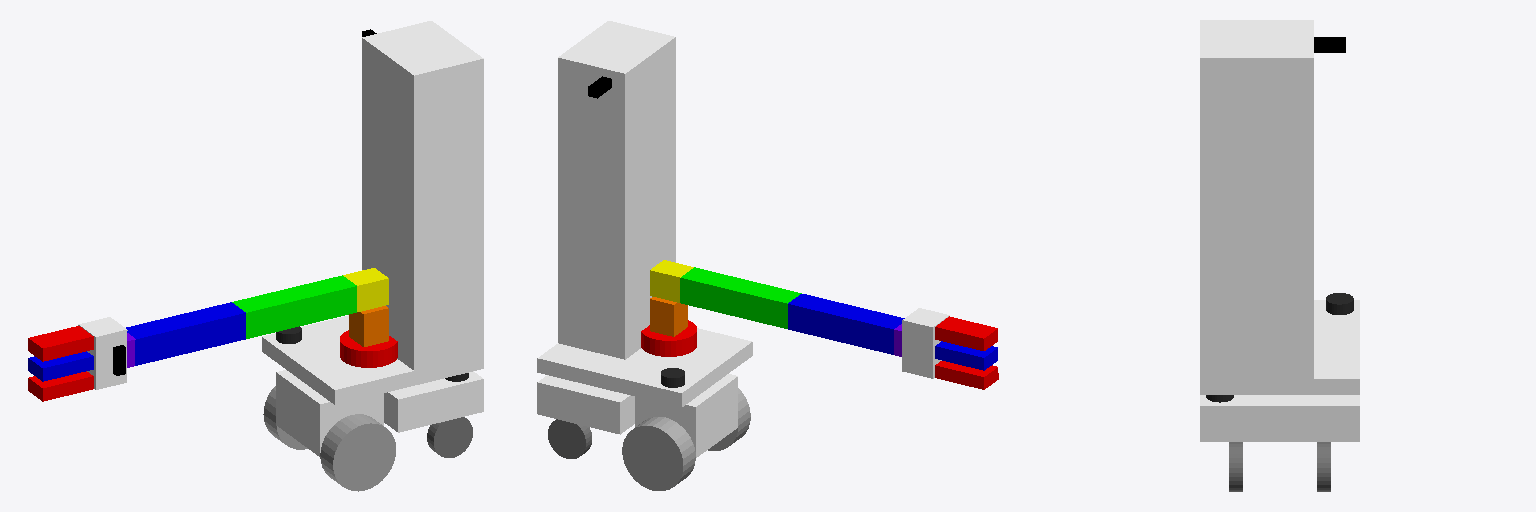
--- Facts derived from the render (not from the file) ---
Views: 3 orthographic renders of the robot side by side, from view 1: azimuth 30°, elevation 25°; view 2: azimuth 150°, elevation 25°; view 3: azimuth 270°, elevation 25°.
Robot: mbse — 25 links, 24 joints (7 revolute, 4 continuous, 3 prismatic, 10 fixed); root link mobilebaseI; default pose: all joints at 0.
Links seen in each view (by area): view 1: Torsol, mobilebaseIV, Revlink3, Revlink4, Wheel_Left, mobilebaseI, mobilebaseII, Hand, FingerLeft, CasterWheel_Left, LinearJoint, Revlink1 (+4 smaller); view 2: Torsol, mobilebaseIV, Revlink3, Revlink4, Wheel_Right, mobilebaseII, mobilebaseI, Hand, FingerLeft, CasterWheel_Right, LinearJoint, Revlink1 (+4 smaller); view 3: Torsol, mobilebaseII, mobilebaseIV, CasterWheel_Left, CasterWheel_Right, Lidar_Front.
Boxes of the visible links, x1,y1,x2,y2 form: Torsol: (362, 21, 483, 370); mobilebaseIV: (262, 315, 483, 404); Revlink3: (232, 275, 356, 338); Revlink4: (126, 302, 245, 365); Wheel_Left: (320, 414, 395, 491); mobilebaseI: (276, 370, 383, 456); mobilebaseII: (384, 371, 483, 432); Hand: (78, 317, 127, 389); FingerLeft: (28, 326, 93, 361); CasterWheel_Left: (427, 417, 472, 457); LinearJoint: (340, 330, 397, 367); Revlink1: (349, 306, 388, 346); Torsol: (558, 21, 675, 359); mobilebaseIV: (537, 328, 752, 407); Revlink3: (680, 267, 801, 328); Revlink4: (788, 294, 904, 354); Wheel_Right: (622, 417, 695, 490); mobilebaseII: (537, 375, 634, 434); mobilebaseI: (635, 374, 737, 457); Hand: (902, 308, 949, 378); FingerLeft: (935, 316, 997, 350); CasterWheel_Right: (548, 419, 591, 458); LinearJoint: (641, 320, 696, 356); Revlink1: (650, 297, 687, 336); Torsol: (1200, 20, 1313, 378); mobilebaseII: (1200, 395, 1359, 441); mobilebaseIV: (1200, 300, 1359, 394); CasterWheel_Left: (1229, 442, 1242, 491); CasterWheel_Right: (1317, 442, 1330, 491); Lidar_Front: (1326, 293, 1353, 314).
Size in the robot's own frame: 1.34 by 0.4 by 1.22 metres.
Geometry: primitives only (box / cylinder / sphere), no mesh files.

The robot description file, URDF, robot "mbse":
<?xml version="1.0" encoding="UTF-8"?>
<!-- <?xml version="1.0"?> -->
<robot name="mbse">
    <link name="mobilebaseI">
        <visual name="mobilebaseI">
            <origin xyz="0.0 0.0 0.080" rpy="0.0 0.0 0.0" />
            <geometry name="mobilebaseI">
                <box size="0.200 0.240 0.160" />
            </geometry>
            <material name="white">
                <color rgba="1.0 1.0 1.0 1.0" />
            </material>
        </visual>
        <inertial>
            <mass value="2.0" />
            <inertia ixx="5.0" ixy="0.0" ixz="0.0" iyy="7.0" iyz="0.0" izz="6.0" />
        </inertial>
        <collision>
            <origin xyz="0.0 0.0 0.080" rpy="0.0 0.0 0.0" />
            <geometry name="mobilebaseI">
                <box size="0.200 0.240 0.160" />
            </geometry>
        </collision>
    </link>
    <link name="mobilebaseII">
        <visual name="mobilebaseII">
            <origin xyz="0.0 0.0 0.00" rpy="0.0 0.0 0.0" />
            <geometry name="mobilebaseII">
                <box size="0.270 0.400 0.100" />
            </geometry>
            <material name="white" />
        </visual>
        <inertial>
            <mass value="18.0" />
            <inertia ixx="8.0" ixy="0.0" ixz="0.0" iyy="2.0" iyz="0.0" izz="1.0" />
        </inertial>
        <collision>
            <origin xyz="0.0 0.0 0.00" rpy="0.0 0.0 0.0" />
            <geometry name="mobilebaseII">
                <box size="0.270 0.400 0.100" />
            </geometry>
        </collision>
    </link>
    <joint name="MobileBaseWheel" type="fixed">
        <origin xyz="0.235 0.0 0.110" rpy="0.0 0.0 0.0" />
        <parent link="mobilebaseI" />
        <child link="mobilebaseII" />
    </joint>
    <link name="Wheel_Right">
        <inertial>
            <mass value="1.5" />
            <inertia ixx="8.0" ixy="0.0" ixz="0.0" iyy="4.0" iyz="0.0" izz="4.0" />
        </inertial>
        <visual name="Wheel">
            <origin xyz="0.0 0.0 0.0" rpy="0.0 0.0 0.0" />
            <geometry name="wheel">
                <cylinder radius="0.100" length="0.070" />
            </geometry>
            <material name="Gray1">
                <color rgba="0.7 0.7 0.7 1.0" />
            </material>
        </visual>
        <collision>
            <origin xyz="0.0 0.0 0.0" rpy="0.0 0.0 0.0" />
            <geometry name="wheel">
                <cylinder radius="0.100" length="0.070" />
            </geometry>
        </collision>
    </link>
    <joint name="WheelR" type="continuous">
        <origin xyz="0.0 0.155 0.005" rpy="1.57 0.0 0.0" />
        <parent link="mobilebaseI" />
        <child link="Wheel_Right" />
        <axis xyz="0.0 0.0 1.0" />
        <limit effort="1000.0" velocity="10.0" />
    </joint>
    <link name="Wheel_Left">
        <inertial>
            <mass value="1.5" />
            <inertia ixx="8.0" ixy="0.0" ixz="0.0" iyy="4.0" iyz="0.0" izz="4.0" />
        </inertial>
        <visual name="Wheel">
            <origin xyz="0.0 0.0 0.0" rpy="0.0 0.0 0.0" />
            <geometry name="wheel">
                <cylinder radius="0.100" length="0.070" />
            </geometry>
            <material name="Gray1">
                <color rgba="0.7 0.7 0.7 1.0" />
            </material>
        </visual>
        <collision>
            <origin xyz="0.0 0.0 0.0" rpy="0.0 0.0 0.0" />
            <geometry name="wheel">
                <cylinder radius="0.100" length="0.070" />
            </geometry>
        </collision>
    </link>
    <joint name="WheelL" type="continuous">
        <origin xyz="0.0 -0.155 0.005" rpy="1.57 0.0 0.0" />
        <parent link="mobilebaseI" />
        <child link="Wheel_Left" />
        <axis xyz="0.0 0.0 1.0" />
        <limit effort="1000.0" velocity="10.0" />
    </joint>
    <link name="CasterCase_Left">
        <inertial>
            <mass value="0.06" />
            <inertia ixx="0.2" ixy="0.0" ixz="0.0" iyy="0.6" iyz="-0.7" izz="0.2" />
        </inertial>
        <visual name="CasterCase">
            <origin xyz="0.0 0.0 -0.005" rpy="0.0 0.0 0.0" />
            <geometry name="CasterC">
                <cylinder radius="0.025" length="0.010" />
            </geometry>
            <material name="Gray1">
                <color rgba="0.7 0.7 0.7 1.0" />
            </material>
        </visual>
        <collision>
            <origin xyz="0.0 0.0 -0.005" rpy="0.0 0.0 0.0" />
            <geometry name="CasterC">
                <cylinder radius="0.025" length="0.010" />
            </geometry>
        </collision>
    </link>
    <joint name="CasterCL" type="fixed">
        <origin xyz="0.040 -0.110 -0.05" rpy="0.0 0.0 0.0" />
        <parent link="mobilebaseII" />
        <child link="CasterCase_Left" />
        <axis xyz="0.0 0.0 1.0" />
    </joint>
    <link name="CasterWheel_Left">
        <inertial>
            <mass value="0.3" />
            <inertia ixx="0.6" ixy="0.0" ixz="0.0" iyy="0.3" iyz="0.0" izz="0.3" />
        </inertial>
        <visual name="CasterWheel">
            <origin xyz="0.0 0.0 0.0" rpy="0.0 0.0 0.0" />
            <geometry name="Casterwheel">
                <cylinder radius="0.0625" length="0.036" />
            </geometry>
            <material name="Gray2">
                <color rgba="0.5 0.5 0.5 1.0" />
            </material>
        </visual>
        <collision>
            <origin xyz="0.0 0.0 0.0" rpy="0.0 0.0 0.0" />
            <geometry name="Casterwheel">
                <cylinder radius="0.0625" length="0.036" />
            </geometry>
        </collision>
    </link>
    <joint name="CasterWheelL" type="continuous">
        <origin xyz="0.0405 0.0 -0.0925" rpy="1.57 0.0 0.0" />
        <parent link="CasterCase_Left" />
        <child link="CasterWheel_Left" />
        <axis xyz="0.0 0.0 1.0" />
    </joint>
    <link name="CasterCase_Right">
        <inertial>
            <mass value="0.06" />
            <inertia ixx="0.2" ixy="0.0" ixz="0.0" iyy="0.6" iyz="-0.7" izz="0.2" />
        </inertial>
        <visual name="CasterCase">
            <origin xyz="0.0 0.0 -0.005" rpy="0.0 0.0 0.0" />
            <geometry name="CasterC">
                <cylinder radius="0.025" length="0.010" />
            </geometry>
            <material name="Gray1">
                <color rgba="0.7 0.7 0.7 1.0" />
            </material>
        </visual>
        <collision>
            <origin xyz="0.0 0.0 -0.005" rpy="0.0 0.0 0.0" />
            <geometry name="CasterC">
                <cylinder radius="0.025" length="0.010" />
            </geometry>
        </collision>
    </link>
    <joint name="CasterCR" type="fixed">
        <origin xyz="0.040 0.110 -0.05" rpy="0.0 0.0 0.0" />
        <parent link="mobilebaseII" />
        <child link="CasterCase_Right" />
        <axis xyz="1.0 0.0 0.0" />
    </joint>
    <link name="CasterWheel_Right">
        <inertial>
            <mass value="0.3" />
            <inertia ixx="0.6" ixy="0.0" ixz="0.0" iyy="0.3" iyz="0.0" izz="0.3" />
        </inertial>
        <visual name="CasterWheel">
            <origin xyz="0.0 0.0 0.0" rpy="0.0 0.0 0.0" />
            <geometry name="Casterwheel">
                <cylinder radius="0.0625" length="0.036" />
            </geometry>
            <material name="Gray2">
                <color rgba="0.5 0.5 0.5 1.0" />
            </material>
        </visual>
        <collision>
            <origin xyz="0.0 0.0 0.0" rpy="0.0 0.0 0.0" />
            <geometry name="Casterwheel">
                <cylinder radius="0.0625" length="0.036" />
            </geometry>
        </collision>
    </link>
    <joint name="CasterWheelR" type="continuous">
        <origin xyz="0.0405 0.0 -0.0925" rpy="1.57 0.0 0.0" />
        <parent link="CasterCase_Right" />
        <child link="CasterWheel_Right" />
        <axis xyz="0.0 0.0 1.0" />
    </joint>
    <link name="mobilebaseIII">
        <inertial>
            <mass value="10.0" />
            <inertia ixx="0.6" ixy="0.0" ixz="0.0" iyy="0.1" iyz="0.0" izz="0.4" />
        </inertial>
        <visual name="mobilebaseIII">
            <origin xyz="0.0 0.0 0.0" rpy="0.0 0.0 0.0" />
            <geometry name="mobilebaseIII">
                <box size="0.235 0.180 0.030" />
            </geometry>
            <material name="white" />
        </visual>
        <collision>
            <origin xyz="0.0 0.0 0.0" rpy="0.0 0.0 0.0" />
            <geometry name="mobilebaseIII">
                <box size="0.235 0.180 0.030" />
            </geometry>
        </collision>
    </link>
    <joint name="MobileBaseLidar" type="fixed">
        <origin xyz="-0.100 0.0 0.065" rpy="0.0 0.0 0.0" />
        <parent link="mobilebaseII" />
        <child link="mobilebaseIII" />
        <axis xyz="0.0 0.0 1.0" />
    </joint>
    <link name="mobilebaseIV">
        <inertial>
            <mass value="1.0" />
            <inertia ixx="0.2" ixy="0.0" ixz="0.0" iyy="0.3" iyz="0.0" izz="0.1" />
        </inertial>
        <visual name="mobilebaseIII">
            <origin xyz="0.0 0.0 0.0" rpy="0.0 0.0 0.0" />
            <geometry name="mobilebaseIV">
                <box size="0.470 0.400 0.045" />
            </geometry>
            <material name="white" />
        </visual>
        <collision>
            <origin xyz="0.0 0.0 0.0" rpy="0.0 0.0 0.0" />
            <geometry name="mobilebaseIV">
                <box size="0.470 0.400 0.045" />
            </geometry>
        </collision>
    </link>
    <joint name="MobileBaseTorsol" type="fixed">
        <origin xyz="0.0 0.0 0.0375" rpy="0.0 0.0 0.0" />
        <parent link="mobilebaseIII" />
        <child link="mobilebaseIV" />
    </joint>
    <link name="Lidar_Front">
        <inertial>
            <mass value="0.3" />
            <inertia ixx="0.4" ixy="0.0" ixz="0.0" iyy="0.7" iyz="0.0" izz="0.4" />
        </inertial>
        <visual name="Lidar_Front">
            <origin xyz="0.0 0.0 0.0" rpy="0.0 0.0 0.0" />
            <geometry name="Lidar_front">
                <cylinder radius="0.035" length="0.030" />
            </geometry>
            <material name="Gray4">
                <color rgba="0.2 0.2 0.2 1.0" />
            </material>
        </visual>
        <collision>
            <origin xyz="0.0 0.0 0.0" rpy="0.0 0.0 0.0" />
            <geometry name="Lidar_front">
                <cylinder radius="0.035" length="0.030" />
            </geometry>
        </collision>
    </link>
    <joint name="LidarF" type="fixed">
        <origin xyz="-0.178 0.150 0.075" rpy="0.0 0.0 0.0" />
        <parent link="mobilebaseIII" />
        <child link="Lidar_Front" />
        <axis xyz="1.0 0.0 0.0" />
    </joint>
    <link name="Lidar_Back">
        <inertial>
            <mass value="0.3" />
            <inertia ixx="0.4" ixy="0.0" ixz="0.0" iyy="0.7" iyz="0.0" izz="0.4" />
        </inertial>
        <visual name="Lidar_Back">
            <origin xyz="0.0 0.0 0.0" rpy="0.0 0.0 0.0" />
            <geometry name="Lidar_back">
                <cylinder radius="0.035" length="0.030" />
            </geometry>
            <material name="Gray4">
                <color rgba="0.2 0.2 0.2 1.0" />
            </material>
        </visual>
        <collision>
            <origin xyz="0.0 0.0 0.0" rpy="0.0 0.0 0.0" />
            <geometry name="Lidar_back">
                <cylinder radius="0.035" length="0.030" />
            </geometry>
        </collision>
    </link>
    <joint name="LidarB" type="fixed">
        <origin xyz="0.178 -0.150 0.0" rpy="0.0 0.0 0.0" />
        <parent link="mobilebaseIII" />
        <child link="Lidar_Back" />
    </joint>
    <link name="Torsol">
        <inertial>
            <mass value="0.8" />
            <inertia ixx="7.0" ixy="5.0" ixz="8.0" iyy="4.0" iyz="4.0" izz="7.0" />
        </inertial>
        <visual name="Body">
            <origin xyz="0.0 0.0 0.445" rpy="0.0 0.0 0.0" />
            <geometry name="body">
                <box size="0.220 0.285 0.890" />
            </geometry>
            <material name="white" />
        </visual>
        <collision>
            <origin xyz="0.0 0.0 0.445" rpy="0.0 0.0 0.0" />
            <geometry name="body">
                <box size="0.220 0.285 0.890" />
            </geometry>
        </collision>
    </link>
    <joint name="BaseTorsol" type="fixed">
        <origin xyz="0.125 -0.0575 0.0225" rpy="0.0 0.0 0.0" />
        <parent link="mobilebaseIV" />
        <child link="Torsol" />
    </joint>
    <link name="TorsolCamera">
        <inertial>
            <origin xyz="0.0 1.0 0.0" rpy="0.0 0.0 0.0" />
            <mass value="0.2" />
            <inertia ixx="0.6" ixy="0.0" ixz="0.0" iyy="0.1" iyz="0.0" izz="0.1" />
        </inertial>
        <visual>
            <origin xyz="0.0 0.0 0.0" rpy="0.0 0.0 0.0" />
            <geometry name="Camera">
                <box size="0.03 0.08 0.03" />
            </geometry>
            <material name="black">
                <color rgba="0.0 0.0 0.0 0.5" />
            </material>
        </visual>
        <collision>
            <origin xyz="0.0 0.0 0.0" rpy="0.0 0.0 0.0" />
            <geometry name="Camera">
                <box size="0.03 0.08 0.03" />
            </geometry>
        </collision>
    </link>
    <joint name="BodyCam" type="revolute">
        <origin xyz="-0.05 0.182 0.85" rpy="0.0 0.0 0.0" />
        <parent link="Torsol" />
        <child link="TorsolCamera" />
        <axis xyz="0.0 1.0 0.0" />
        <limit effort="1000.0" lower="-1.5" upper="1.5" velocity="0.5" />
    </joint>
    <link name="LinearJoint">
        <inertial>
            <mass value="0.5" />
            <inertia ixx="7.0" ixy="-5.0" ixz="8.0" iyy="4.0" iyz="4.0" izz="7.0" />
        </inertial>
        <visual>
            <origin xyz="0.0 0.0 0.0" rpy="0.0 0.0 0.0" />
            <geometry name="LinearJ">
                <cylinder radius="0.080" length="0.050" />
            </geometry>
            <material name="Red">
                <color rgba="1.0 0.0 0.0 1.0" />
            </material>
        </visual>
        <collision>
            <origin xyz="0.0 0.0 0.0" rpy="0.0 0.0 0.0" />
            <geometry name="LinearJ">
                <cylinder radius="0.080" length="0.050" />
            </geometry>
        </collision>
    </link>
    <joint name="LinJ" type="prismatic">
        <origin xyz="-0.17 0.0 0.0275" rpy="0.0 0.0 0.0" />
        <parent link="Torsol" />
        <child link="LinearJoint" />
        <axis xyz="0.0 0.0 1.0" />
        <limit lower="0.0" upper="0.650" effort="1000.0" velocity="10.0" />
    </joint>
    <link name="Revlink1">
        <inertial>
            <mass value="0.1" />
            <inertia ixx="0.4" ixy="0.0" ixz="0.0" iyy="0.4" iyz="0.7" izz="0.1" />
        </inertial>
        <visual>
            <origin xyz="0.0 0.0 -0.050" rpy="0.0 0.0 0.0" />
            <geometry name="RevL1">
                <box size="0.080 0.080 0.100" />
            </geometry>
            <material name="Orange">
                <color rgba="1.0 0.5 0.0 1.0" />
            </material>
        </visual>
        <collision>
            <origin xyz="0.0 0.0 -0.050" rpy="0.0 0.0 0.0" />
            <geometry name="RevL1">
                <box size="0.080 0.080 0.100" />
            </geometry>
        </collision>
    </link>
    <joint name="RevJ1" type="revolute">
        <origin xyz="0.0 0.0 0.125" rpy="0.0 0.0 3.14" />
        <parent link="LinearJoint" />
        <child link="Revlink1" />
        <axis xyz="0.0 0.0 1.0" />
        <limit effort="1000.0" lower="-1.3" upper="1.3" velocity="0.5" />
    </joint>
    <link name="Revlink2">
        <inertial>
            <mass value="0.1" />
            <inertia ixx="0.9" ixy="0.0" ixz="0.0" iyy="0.4" iyz="0.0" izz="0.9" />
        </inertial>
        <visual>
            <origin xyz="0.0 0.0 -0.050" rpy="0.0 0.0 0.0" />
            <geometry name="RevL2">
                <box size="0.080 0.080 0.100" />
            </geometry>
            <material name="Yellow">
                <color rgba="1.0 1.0 0.0 1.0" />
            </material>
        </visual>
        <collision>
            <origin xyz="0.0 0.0 -0.050" rpy="0.0 0.0 0.0" />
            <geometry name="RevL2">
                <box size="0.080 0.080 0.100" />
            </geometry>
        </collision>
    </link>
    <joint name="RevJ2" type="revolute">
        <origin xyz="0.06 0.0 0.05" rpy="0.0 1.57 0.0" />
        <parent link="Revlink1" />
        <child link="Revlink2" />
        <axis xyz="0.0 0.0 1.0" />
        <limit effort="1000.0" lower="-1.5" upper="1.5" velocity="0.5" />
    </joint>
    <link name="Revlink3">
        <inertial>
            <mass value="0.1" />
            <inertia ixx="0.9" ixy="0.0" ixz="0.0" iyy="0.1" iyz="0.5" izz="0.8" />
        </inertial>
        <visual>
            <origin xyz="-0.175 0.0 0.0" rpy="0.0 1.57 0.0" />
            <geometry name="RevL3">
                <box size="0.080 0.080 0.350" />
            </geometry>
            <material name="Green">
                <color rgba="0.0 1.0 0.0 1.0" />
            </material>
        </visual>
        <collision>
            <origin xyz="-0.175 0.0 0.0" rpy="0.0 1.57 0.0" />
            <geometry name="RevL3">
                <box size="0.080 0.080 0.350" />
            </geometry>
        </collision>
    </link>
    <joint name="RevJ3" type="revolute">
        <origin xyz="0.0 0.0 0.0" rpy="1.57 1.57 0.0" />
        <parent link="Revlink2" />
        <child link="Revlink3" />
        <axis xyz="0.0 0.0 1.0" />
        <limit effort="1000.0" lower="-1.2" upper="2.0" velocity="0.5" />
    </joint>
    <link name="Revlink4">
        <inertial>
            <mass value="0.1" />
            <inertia ixx="0.9" ixy="0.0" ixz="0.0" iyy="0.1" iyz="0.5" izz="0.8" />
        </inertial>
        <visual>
            <origin xyz="-0.175 0.0 0.0" rpy="0.0 1.57 0.0" />
            <geometry name="RevL4">
                <box size="0.080 0.080 0.350" />
            </geometry>
            <material name="Blue">
                <color rgba="0.0 0.0 1.0 1.0" />
            </material>
        </visual>
        <collision>
            <origin xyz="-0.175 0.0 0.0" rpy="0.0 1.57 0.0" />
            <geometry name="RevL4">
                <box size="0.080 0.080 0.350" />
            </geometry>
        </collision>
    </link>
    <joint name="RevJ4" type="revolute">
        <origin xyz="-0.350 0.0 0.0" rpy="0.0 0.0 0.0" />
        <parent link="Revlink3" />
        <child link="Revlink4" />
        <axis xyz="0.0 0.0 1.0" />
        <limit effort="1000.0" lower="-1.9" upper="1.9" velocity="0.5" />
    </joint>
    <link name="Revlink5">
        <inertial>
            <mass value="0.1" />
            <inertia ixx="0.1" ixy="0.0" ixz="0.0" iyy="0.1" iyz="0.0" izz="0.1" />
        </inertial>
        <visual>
            <origin xyz="-0.04 0.0 0.0" rpy="0.0 1.57 0.0" />
            <geometry name="RevL5">
                <box size="0.080 0.080 0.050" />
            </geometry>
            <material name="Purple">
                <color rgba="0.5 0.0 1.0 1.0" />
            </material>
        </visual>
        <collision>
            <origin xyz="-0.04 0.0 0.0" rpy="0.0 1.57 0.0" />
            <geometry name="RevL5">
                <box size="0.080 0.080 0.050" />
            </geometry>
        </collision>
    </link>
    <joint name="RevJ5" type="revolute">
        <origin xyz="-0.331 0.0 -0.0" rpy="0.0 0.0 0.0" />
        <parent link="Revlink4" />
        <child link="Revlink5" />
        <axis xyz="0.0 0.0 1.0" />
        <limit effort="1000.0" lower="-3.14" upper="3.14" velocity="0.5" />
    </joint>
    <link name="Hand">
        <inertial>
            <mass value="0.05" />
            <inertia ixx="0.4" ixy="0.0" ixz="0.0" iyy="0.4" iyz="0.0" izz="0.4" />
        </inertial>
        <visual>
            <origin xyz="-0.0 0.0 0.0475" rpy="0.0 1.57 0.0" />
            <geometry name="Hand">
                <box size="0.100 0.160 0.095" />
            </geometry>
            <material name="white" />
        </visual>
        <collision>
            <origin xyz="-0.0 0.0 0.0475" rpy="0.0 1.57 0.0" />
            <geometry name="Hand">
                <box size="0.100 0.160 0.095" />
            </geometry>
        </collision>
    </link>
    <joint name="HandGripper" type="revolute">
        <origin xyz="-0.05 -0.0 -0.0" rpy="0.0 -1.57 0.0" />
        <parent link="Revlink5" />
        <child link="Hand" />
        <axis xyz="0.0 0.0 1.0" />
        <limit effort="1000.0" lower="-3.14" upper="3.14" velocity="0.5" />
    </joint>
    <link name="FingerLeft">
        <inertial>
            <mass value="0.05" />
            <inertia ixx="0.5" ixy="0.0" ixz="0.0" iyy="0.4" iyz="0.0" izz="0.5" />
        </inertial>
        <visual>
            <origin xyz="-0.080 0.0 0.0" rpy="0.0 0.0 0.0" />
            <geometry name="FingerL">
                <box size="0.160 0.040 0.080" />
            </geometry>
            <material name="Red" />
        </visual>
        <collision>
            <origin xyz="-0.080 0.0 0.0" rpy="0.0 0.0 0.0" />
            <geometry name="FingerL">
                <box size="0.160 0.040 0.080" />
            </geometry>
        </collision>
    </link>
    <joint name="FingerL" type="prismatic">
        <origin xyz="-0.0 -0.06 0.1" rpy="0.0 1.57 0.0" />
        <parent link="Hand" />
        <child link="FingerLeft" />
        <axis xyz="0.0 1.0 0.0" />
        <limit effort="1000.0" lower="-0.025" upper="0.04" velocity="0.5" />
    </joint>
    <link name="FingerRight">
        <inertial>
            <mass value="0.05" />
            <inertia ixx="0.5" ixy="0.0" ixz="0.0" iyy="0.4" iyz="0.0" izz="0.5" />
        </inertial>
        <visual>
            <origin xyz="-0.080 0.0 0.0" rpy="0.0 0.0 0.0" />
            <geometry name="FingerR">
                <box size="0.160 0.040 0.080" />
            </geometry>
            <material name="Red" />
        </visual>
        <collision>
            <origin xyz="-0.080 0.0 0.0" rpy="0.0 0.0 0.0" />
            <geometry name="FingerR">
                <box size="0.160 0.040 0.080" />
            </geometry>
        </collision>
    </link>
    <joint name="FingerR" type="prismatic">
        <origin xyz="-0.0 0.06 0.1" rpy="0.0 1.57 0.0" />
        <parent link="Hand" />
        <child link="FingerRight" />
        <axis xyz="0.0 1.0 0.0" />
        <limit effort="1000.0" lower="-0.04" upper="0.025" velocity="0.5" />
    </joint>
    <link name="FingerMiddle">
        <visual>
            <origin xyz="-0.080 0.0 0.0" rpy="0.0 0.0 0.0" />
            <geometry name="FingerR">
                <box size="0.160 0.040 0.080" />
            </geometry>
            <material name="Blue" />
        </visual>
    </link>
    <joint name="FingerM" type="fixed">
        <origin xyz="-0.0 0.00 0.1" rpy="0.0 1.57 0.0" />
        <parent link="Hand" />
        <child link="FingerMiddle" />
        <axis xyz="0.0 1.0 0.0" />
        <limit effort="1000.0" lower="-0.1" upper="0.02" velocity="0.5" />
    </joint>
    <link name="HandCamera">
        <inertial>
            <mass value="0.2" />
            <inertia ixx="0.6" ixy="0.0" ixz="0.0" iyy="0.1" iyz="0.0" izz="0.1" />
        </inertial>
        <visual name="Camera">
            <origin xyz="0.0 0.0 0.0" rpy="0.0 0.0 0.0" />
            <geometry name="Camera">
                <box size="0.02 0.08 0.03" />
            </geometry>
            <material name="black">
                <color rgba="0.0 0.0 0.0 0.5" />
            </material>
        </visual>
        <collision>
            <origin xyz="0.0 0.0 0.0" rpy="0.0 0.0 0.0" />
            <geometry name="Camera">
                <box size="0.02 0.08 0.03" />
            </geometry>
        </collision>
    </link>
    <joint name="HandCam" type="fixed">
        <origin xyz="-0.0625 0.0 0.03" rpy="0.0 0.0 0.0" />
        <parent link="Hand" />
        <child link="HandCamera" />
    </joint>
    <transmission name="trans_BodyCam">
        <type>transmission_interface/SimpleTransmission</type>
        <joint name="BodyCam">
            <hardwareInterface>hardware_interface/PositionJointInterface</hardwareInterface>
        </joint>
        <actuator name="BodyCam_motor">
            <hardwareInterface>hardware_interface/PositionJointInterface</hardwareInterface>
            <mechanicalReduction>1</mechanicalReduction>
        </actuator>
    </transmission>
    <transmission name="trans_LinJ">
        <type>transmission_interface/SimpleTransmission</type>
        <joint name="LinJ">
            <hardwareInterface>hardware_interface/PositionJointInterface</hardwareInterface>
        </joint>
        <actuator name="LinJ_motor">
            <hardwareInterface>hardware_interface/PositionJointInterface</hardwareInterface>
            <mechanicalReduction>1</mechanicalReduction>
        </actuator>
    </transmission>
    <transmission name="trans_RevJ1">
        <type>transmission_interface/SimpleTransmission</type>
        <joint name="RevJ1">
            <hardwareInterface>hardware_interface/PositionJointInterface</hardwareInterface>
        </joint>
        <actuator name="RevJ1_motor">
            <hardwareInterface>hardware_interface/PositionJointInterface</hardwareInterface>
            <mechanicalReduction>1</mechanicalReduction>
        </actuator>
    </transmission>
    <transmission name="trans_RevJ2">
        <type>transmission_interface/SimpleTransmission</type>
        <joint name="RevJ2">
            <hardwareInterface>hardware_interface/PositionJointInterface</hardwareInterface>
        </joint>
        <actuator name="RevJ2_motor">
            <hardwareInterface>hardware_interface/PositionJointInterface</hardwareInterface>
            <mechanicalReduction>1</mechanicalReduction>
        </actuator>
    </transmission>
    <transmission name="trans_RevJ3">
        <type>transmission_interface/SimpleTransmission</type>
        <joint name="RevJ3">
            <hardwareInterface>hardware_interface/PositionJointInterface</hardwareInterface>
        </joint>
        <actuator name="RevJ3_motor">
            <hardwareInterface>hardware_interface/PositionJointInterface</hardwareInterface>
            <mechanicalReduction>1</mechanicalReduction>
        </actuator>
    </transmission>
    <transmission name="trans_RevJ4">
        <type>transmission_interface/SimpleTransmission</type>
        <joint name="RevJ4">
            <hardwareInterface>hardware_interface/PositionJointInterface</hardwareInterface>
        </joint>
        <actuator name="RevJ4_motor">
            <hardwareInterface>hardware_interface/PositionJointInterface</hardwareInterface>
            <mechanicalReduction>1</mechanicalReduction>
        </actuator>
    </transmission>
    <transmission name="trans_RevJ5">
        <type>transmission_interface/SimpleTransmission</type>
        <joint name="RevJ5">
            <hardwareInterface>hardware_interface/PositionJointInterface</hardwareInterface>
        </joint>
        <actuator name="RevJ5_motor">
            <hardwareInterface>hardware_interface/PositionJointInterface</hardwareInterface>
            <mechanicalReduction>1</mechanicalReduction>
        </actuator>
    </transmission>
    <transmission name="trans_HandGripper">
        <type>transmission_interface/SimpleTransmission</type>
        <joint name="HandGripper">
            <hardwareInterface>hardware_interface/PositionJointInterface</hardwareInterface>
        </joint>
        <actuator name="HandGripper_motor">
            <hardwareInterface>hardware_interface/PositionJointInterface</hardwareInterface>
            <mechanicalReduction>1</mechanicalReduction>
        </actuator>
    </transmission>
    <transmission name="trans_FingerL">
        <type>transmission_interface/SimpleTransmission</type>
        <joint name="FingerL">
            <hardwareInterface>hardware_interface/PositionJointInterface</hardwareInterface>
        </joint>
        <actuator name="FingerL_motor">
            <hardwareInterface>hardware_interface/PositionJointInterface</hardwareInterface>
            <mechanicalReduction>1</mechanicalReduction>
        </actuator>
    </transmission>
    <transmission name="trans_FingerR">
        <type>transmission_interface/SimpleTransmission</type>
        <joint name="FingerR">
            <hardwareInterface>hardware_interface/PositionJointInterface</hardwareInterface>
        </joint>
        <actuator name="FingerR_motor">
            <hardwareInterface>hardware_interface/PositionJointInterface</hardwareInterface>
            <mechanicalReduction>1</mechanicalReduction>
        </actuator>
    </transmission>
    <gazebo>
        <plugin name="gazebo_ros_control" filename="libgazebo_ros_control.so">
            <robotNamespace>/</robotNamespace>
        </plugin>
    </gazebo>
</robot>
